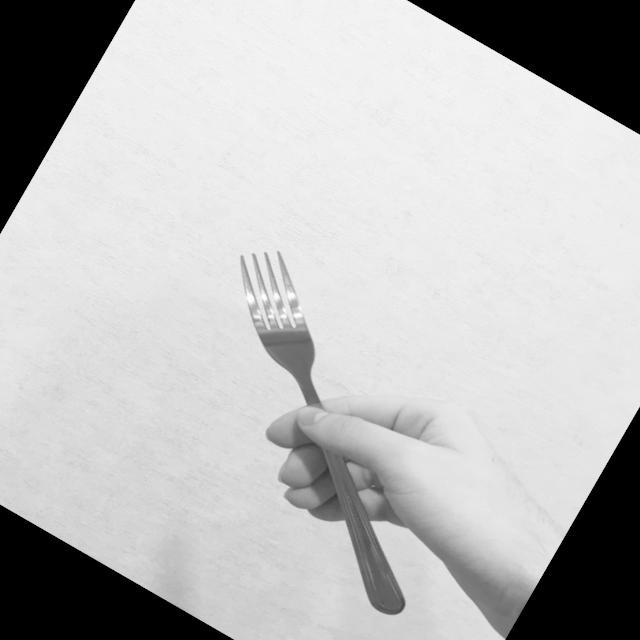fork: (120, 236, 530, 626)
